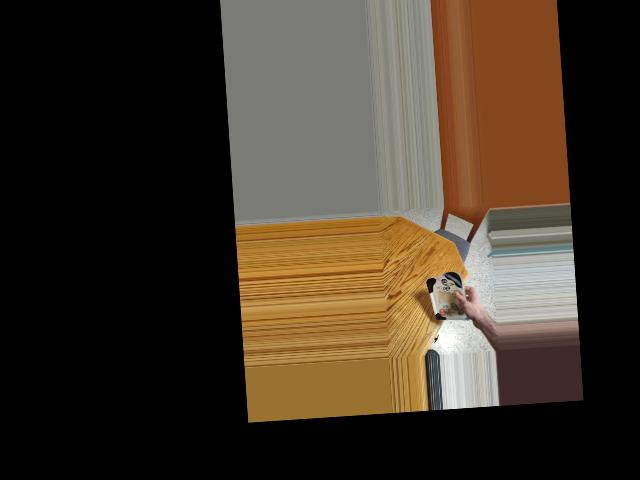cheese: (425, 269, 473, 324)
